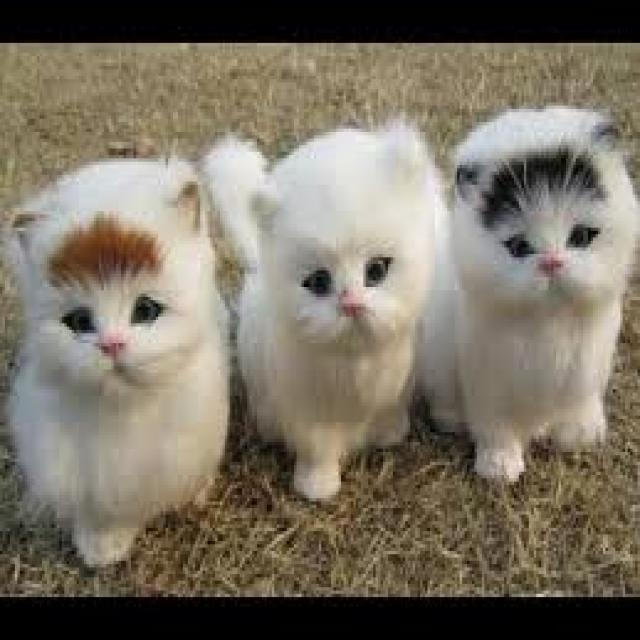Cat: (6, 153, 233, 575), (208, 117, 438, 506), (442, 89, 640, 491)
